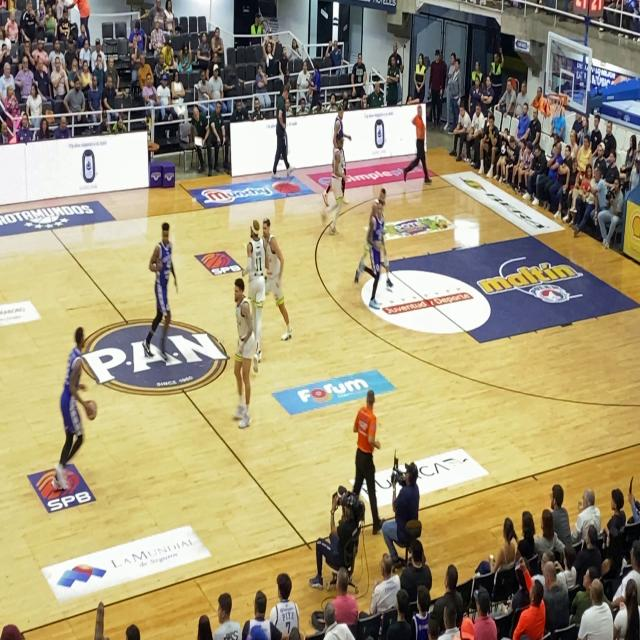Ball: (82, 394, 100, 426)
referee: (352, 381, 387, 551), (407, 92, 436, 188)
team1: (217, 273, 260, 440), (243, 214, 271, 389), (264, 214, 296, 352), (329, 126, 359, 252)
team2: (142, 218, 182, 374), (58, 324, 97, 480), (366, 190, 388, 320)
ubasket: (548, 90, 565, 122)
